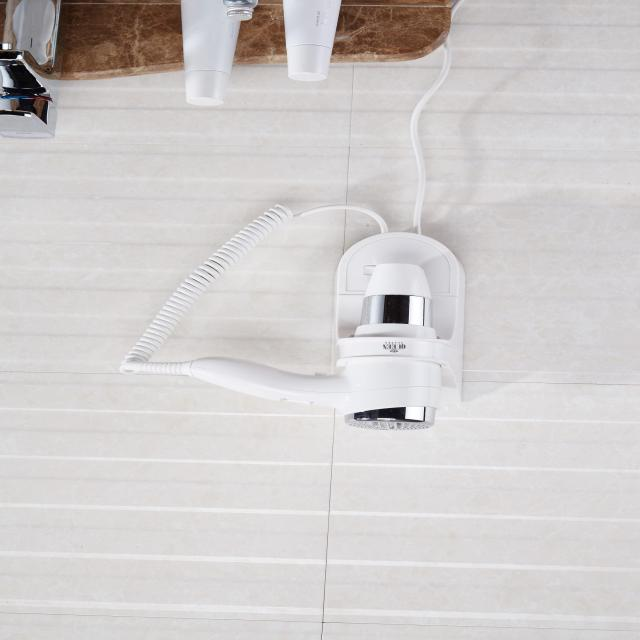dryer: (86, 182, 499, 455)
